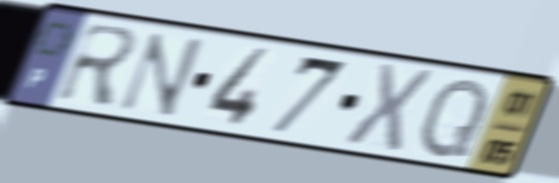4: (201, 44, 274, 131)
7: (267, 52, 352, 136)
N: (113, 29, 210, 121)
Q: (417, 75, 493, 161)
R: (51, 19, 145, 109)
X: (339, 60, 438, 155)
